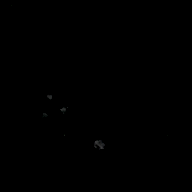v: (40, 90, 67, 117)
